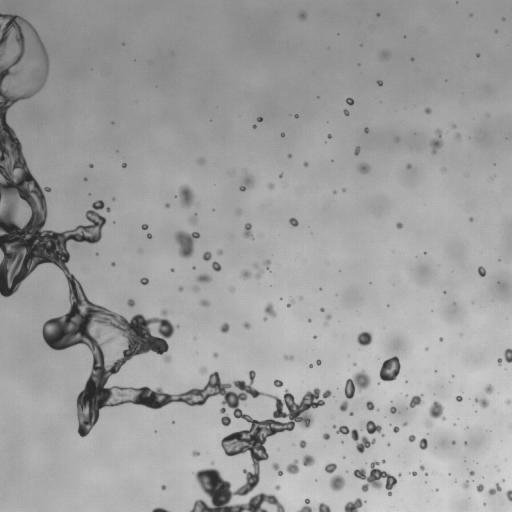droplet: (353, 460, 396, 495), (344, 370, 371, 399), (174, 231, 199, 258), (379, 356, 400, 381), (178, 185, 194, 207), (429, 401, 445, 419), (344, 498, 364, 511), (330, 475, 345, 491), (239, 175, 253, 191), (357, 331, 372, 345), (298, 498, 314, 511), (286, 459, 299, 474), (409, 394, 422, 407), (264, 303, 276, 317), (488, 484, 501, 495), (302, 455, 314, 466), (357, 163, 370, 173), (243, 223, 252, 237), (197, 273, 211, 282), (474, 398, 488, 407), (317, 502, 331, 511), (325, 463, 336, 473), (504, 348, 511, 362), (212, 261, 221, 271), (477, 266, 486, 276), (220, 323, 229, 333), (340, 400, 348, 411), (419, 438, 427, 449), (202, 251, 211, 260), (241, 270, 250, 279), (366, 401, 375, 410), (289, 218, 298, 226), (273, 379, 282, 387), (485, 384, 493, 393), (140, 277, 148, 285), (190, 214, 196, 224), (263, 260, 270, 268), (476, 484, 483, 492), (200, 300, 209, 306), (299, 12, 306, 19), (381, 51, 388, 58), (346, 98, 353, 105), (127, 299, 134, 306), (425, 420, 432, 427), (408, 435, 415, 442), (299, 440, 306, 447), (462, 481, 469, 488), (354, 146, 359, 155), (284, 355, 293, 360), (287, 300, 293, 307), (244, 322, 250, 329), (390, 406, 396, 413), (396, 222, 402, 228), (200, 367, 206, 373), (456, 395, 462, 401), (393, 426, 399, 432), (323, 433, 329, 439), (192, 451, 199, 456), (425, 108, 431, 113), (268, 183, 273, 189), (142, 224, 148, 229), (377, 80, 382, 85), (344, 110, 349, 115), (455, 133, 460, 138), (217, 249, 222, 254), (193, 286, 198, 291), (316, 360, 321, 365), (411, 471, 416, 476), (469, 470, 474, 475), (161, 485, 166, 490), (497, 358, 501, 364), (257, 117, 262, 121), (364, 127, 368, 132), (199, 158, 203, 163), (406, 164, 411, 168), (106, 207, 110, 212), (147, 233, 151, 238), (179, 286, 183, 291), (326, 315, 331, 319), (213, 352, 217, 357), (506, 400, 511, 404), (420, 465, 424, 470), (122, 163, 126, 167), (304, 162, 308, 166), (165, 203, 169, 207), (469, 217, 473, 221), (111, 262, 115, 266), (254, 264, 258, 268), (275, 485, 279, 489), (452, 124, 455, 128), (328, 134, 331, 138), (279, 173, 282, 177), (320, 308, 324, 311), (349, 412, 353, 415), (295, 114, 298, 117), (253, 125, 256, 128), (281, 133, 284, 136), (263, 317, 266, 320), (439, 337, 442, 340), (309, 364, 312, 367), (403, 422, 406, 425), (333, 425, 336, 428), (452, 441, 455, 444), (377, 13, 379, 16), (476, 54, 479, 56), (90, 164, 92, 167), (84, 177, 86, 180), (112, 198, 115, 200), (238, 211, 241, 213), (171, 268, 173, 271), (231, 288, 233, 291), (308, 319, 311, 321), (387, 443, 390, 445), (464, 442, 467, 444), (411, 58, 413, 60), (289, 155, 291, 157), (334, 191, 336, 193), (314, 336, 316, 338), (354, 363, 356, 365), (398, 473, 400, 475), (425, 473, 427, 475)
ligament: (0, 13, 331, 511), (336, 425, 375, 453), (360, 420, 384, 436), (430, 129, 442, 153), (272, 463, 283, 475), (152, 507, 170, 511), (506, 490, 511, 501), (256, 270, 263, 277)
